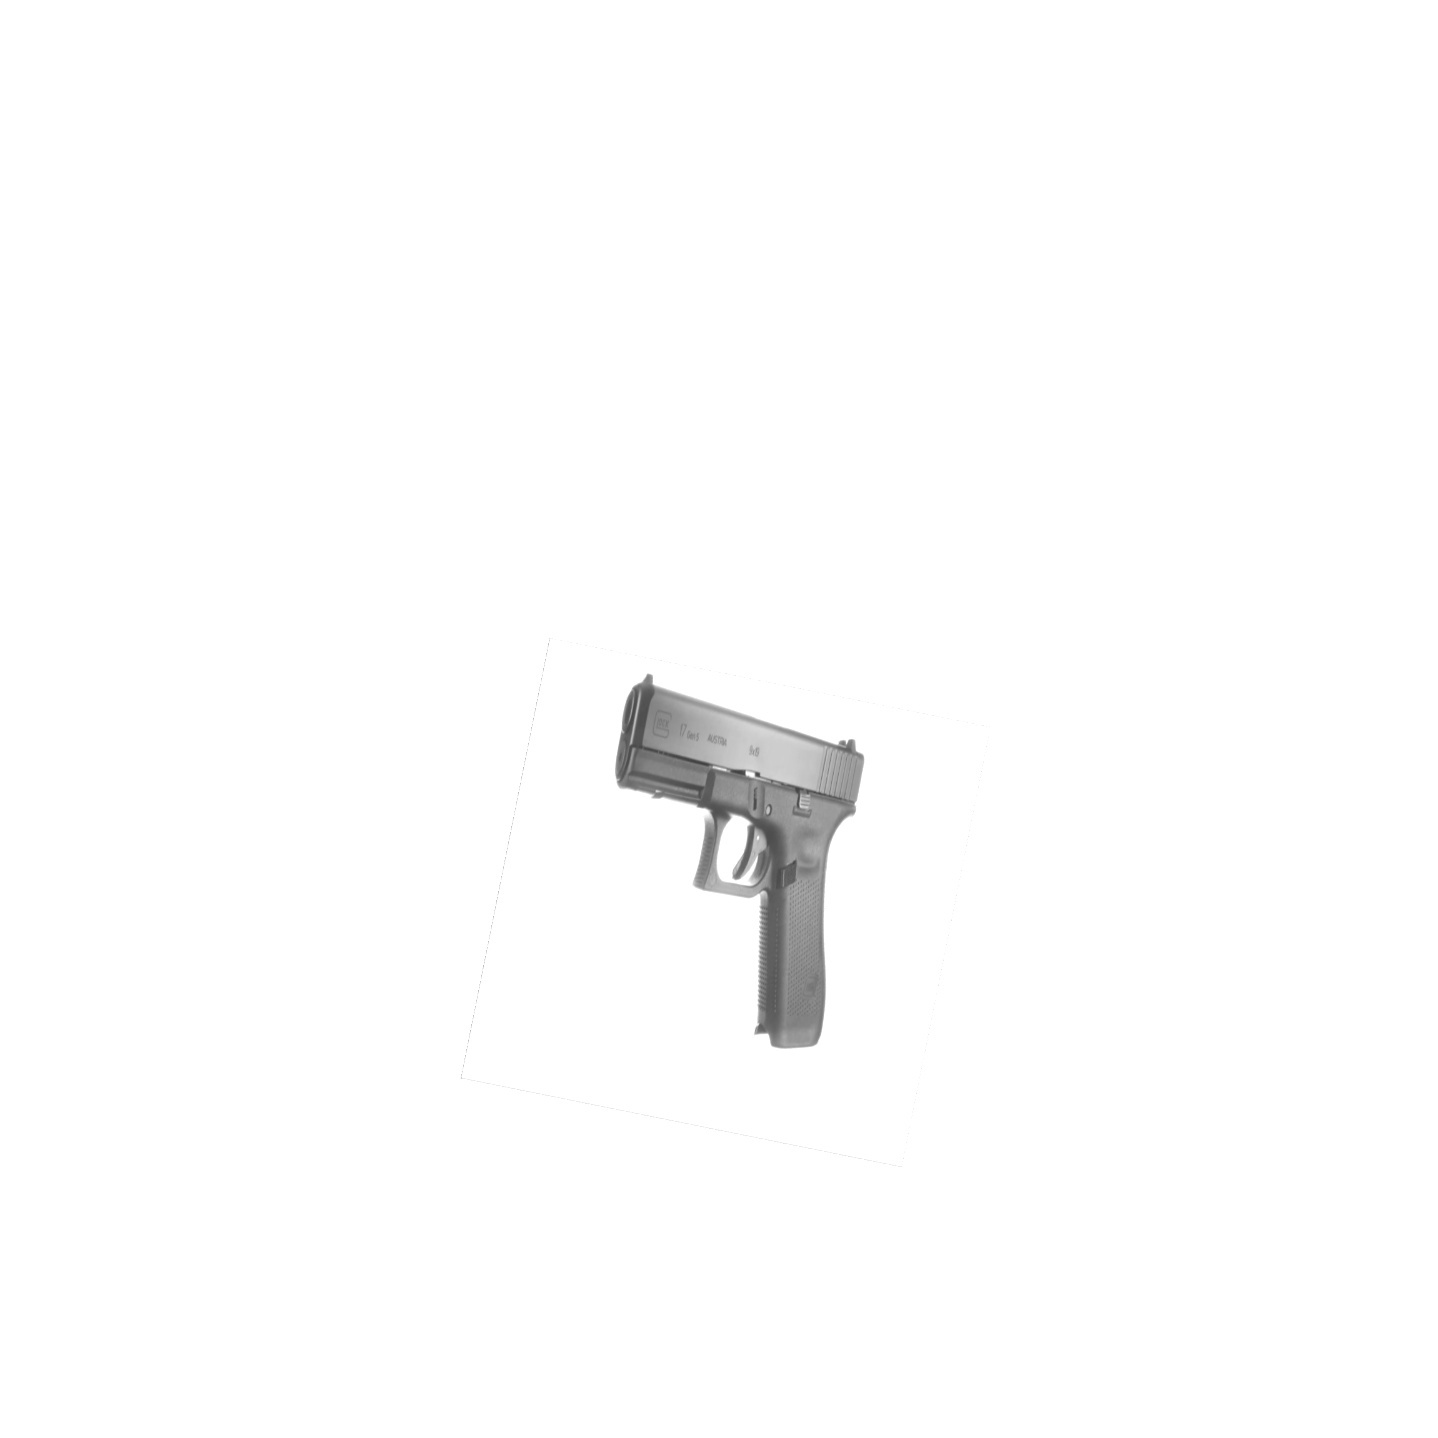gun: (598, 672, 861, 1061)
